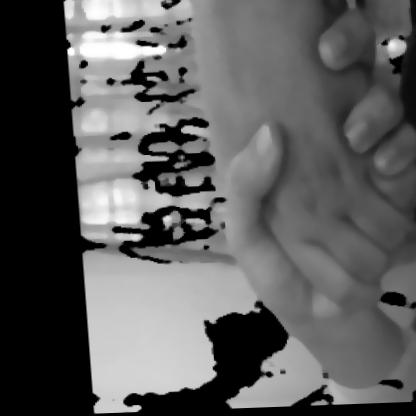handshake: (155, 0, 415, 401)
